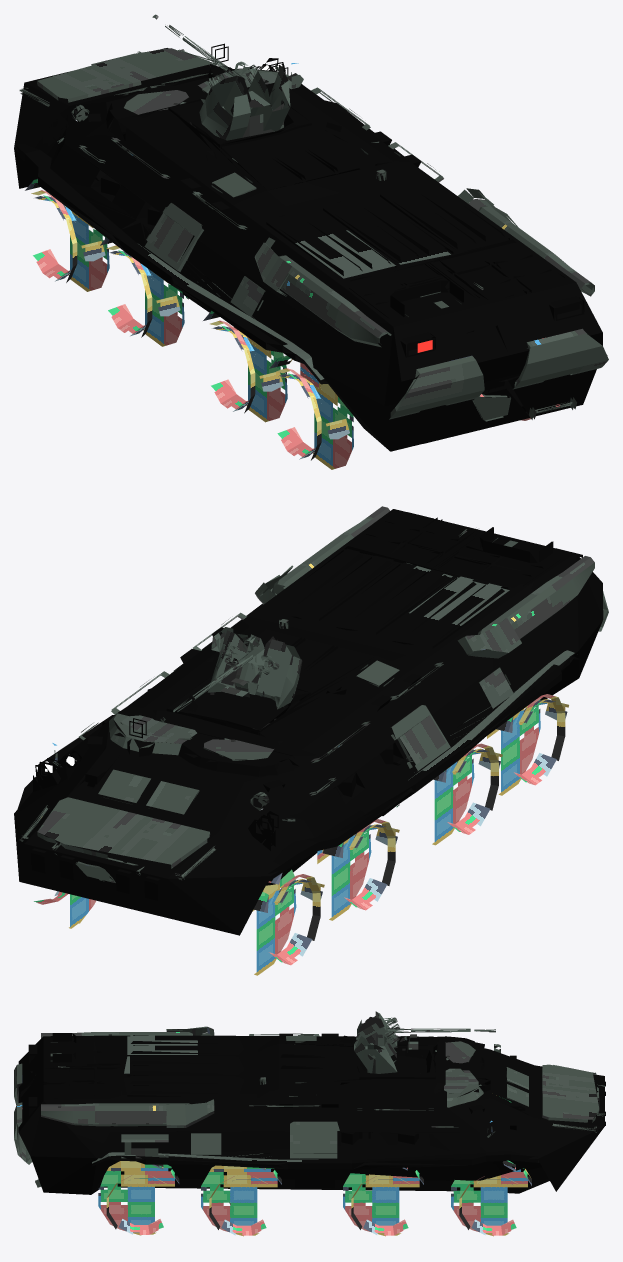
Rendered from btr82-25pct.glb.
The picture shows the model from 3 angles, top to bottom: view 1: azimuth 30°, elevation 25°; view 2: azimuth 150°, elevation 25°; view 3: azimuth 270°, elevation 25°; orthographic projection. The views are drawn at different scales.
Parts seen in each view (by area): view 1: hull_material_0, hull_material_1, turret_material_3, Object_444_material_9, Object_441_material_9, Object_428_material_9, Object_436_material_9; view 2: hull_material_0, hull_material_1, turret_material_3, Object_428_material_9, Object_436_material_9, Object_444_material_9, Object_441_material_9, Object_431_material_9; view 3: hull_material_0, hull_material_1, Object_446_material_9, Object_439_material_9, Object_434_material_9, Object_431_material_9, turret_material_3.
Boxes of the visible parts, x1=… form: hull_material_0: x1=14, y1=43, x2=602, y2=451; hull_material_1: x1=19, y1=48, x2=608, y2=421; turret_material_3: x1=152, y1=14, x2=303, y2=140; Object_444_material_9: x1=269, y1=355, x2=353, y2=469; Object_441_material_9: x1=203, y1=311, x2=287, y2=422; Object_428_material_9: x1=25, y1=179, x2=109, y2=291; Object_436_material_9: x1=100, y1=238, x2=184, y2=346; hull_material_0: x1=14, y1=509, x2=603, y2=935; hull_material_1: x1=19, y1=506, x2=608, y2=882; turret_material_3: x1=160, y1=627, x2=302, y2=729; Object_428_material_9: x1=252, y1=869, x2=324, y2=975; Object_436_material_9: x1=317, y1=819, x2=399, y2=920; Object_444_material_9: x1=487, y1=694, x2=568, y2=795; Object_441_material_9: x1=432, y1=743, x2=502, y2=845; Object_431_material_9: x1=34, y1=891, x2=95, y2=928; hull_material_0: x1=18, y1=1033, x2=605, y2=1194; hull_material_1: x1=14, y1=1026, x2=605, y2=1187; Object_446_material_9: x1=98, y1=1161, x2=179, y2=1235; Object_439_material_9: x1=201, y1=1165, x2=281, y2=1236; Object_434_material_9: x1=343, y1=1167, x2=423, y2=1236; Object_431_material_9: x1=451, y1=1160, x2=531, y2=1236; turret_material_3: x1=354, y1=1011, x2=495, y2=1073.
Bounding box in the file's own units: 4.62 × 3.75 × 11.
Materials: 10 (10 with a texture image).
